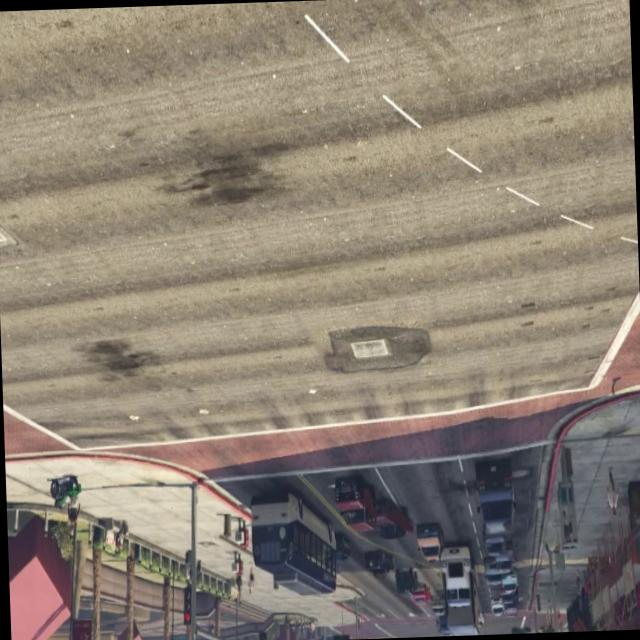Red-Signal: (172, 575, 198, 637), (250, 619, 279, 640), (326, 623, 359, 640)
